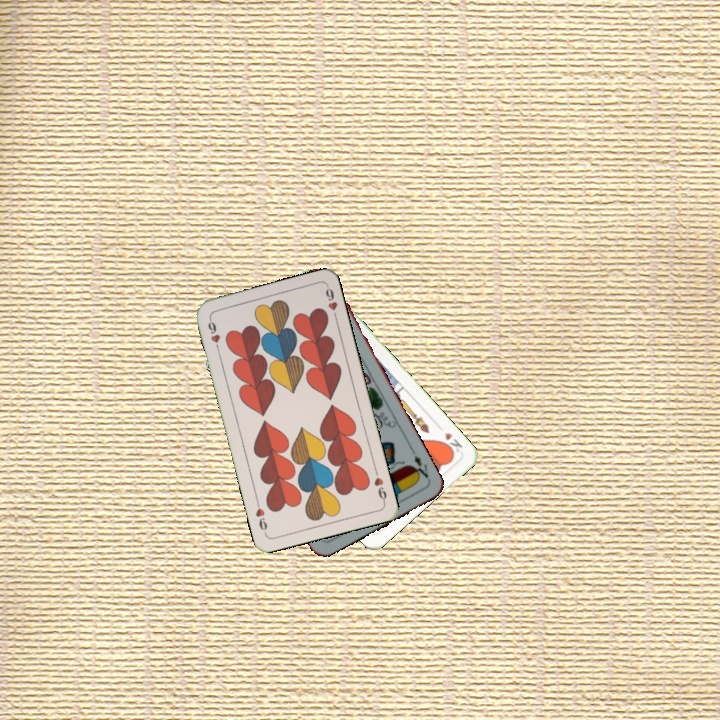EA: (407, 451, 433, 484)
H9: (370, 465, 389, 505), (204, 314, 223, 354)
HK: (438, 428, 466, 457)
